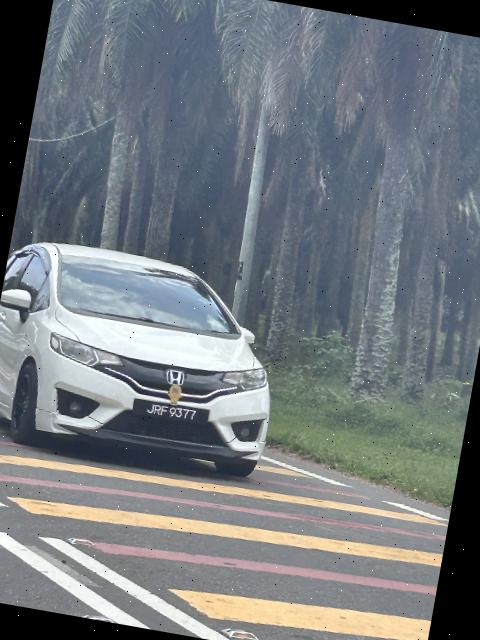License_Plate: (131, 396, 213, 434)
car: (1, 225, 300, 486)
